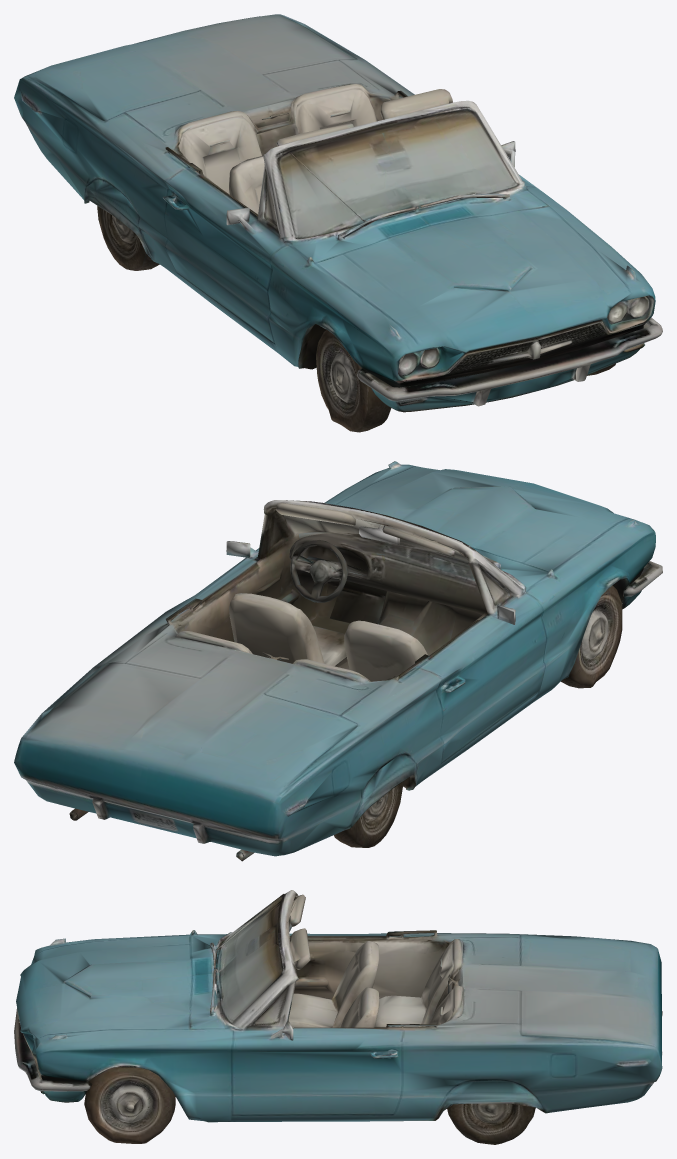
File: thunderbird.glb
3 views of the same model, one above another, from view 1: azimuth 30°, elevation 25°; view 2: azimuth 150°, elevation 25°; view 3: azimuth 270°, elevation 25° (orthographic). The views are drawn at different scales.
Visible parts, largest first — view 1: node_0; view 2: node_0; view 3: node_0.
Boxes of the visible parts, x1,y1,x2,y2 form: node_0: (14,14,662,432); node_0: (14,461,662,861); node_0: (14,890,662,1144).
Bounding box in the file's own units: 0.4769 × 0.3361 × 1.12.
Materials: 1 (1 with a texture image).
